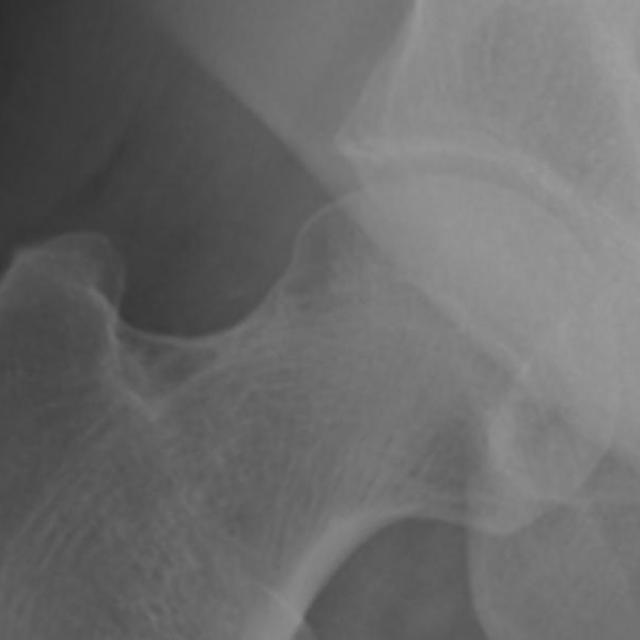Fitted_femural_head: (377, 176, 432, 377)
